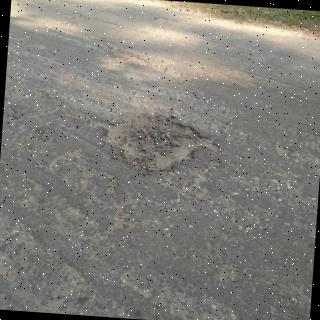pothole: (90, 118, 217, 173)
